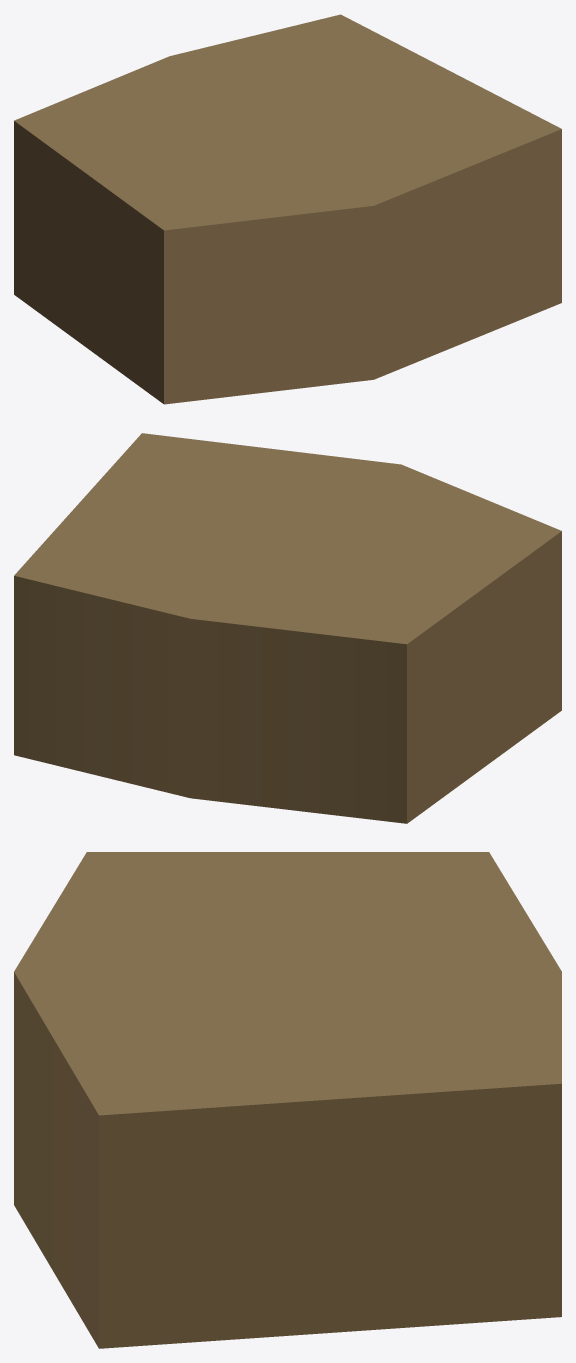
The model's file is ST_Env_Block_Dirt_03.fbx.
3 renders of one model, top to bottom at view 1: azimuth 30°, elevation 25°; view 2: azimuth 150°, elevation 25°; view 3: azimuth 270°, elevation 25°, orthographic. The views are drawn at different scales.
Parts seen in each view (by area): view 1: ST_Env_Block_Dirt_03; view 2: ST_Env_Block_Dirt_03; view 3: ST_Env_Block_Dirt_03.
Part boxes in pixels (bbox=[...]): ST_Env_Block_Dirt_03: bbox=[14, 14, 561, 404]; ST_Env_Block_Dirt_03: bbox=[14, 433, 561, 823]; ST_Env_Block_Dirt_03: bbox=[14, 852, 561, 1348].
Size of the model in its own units: 3.27 by 1.35 by 2.88.
